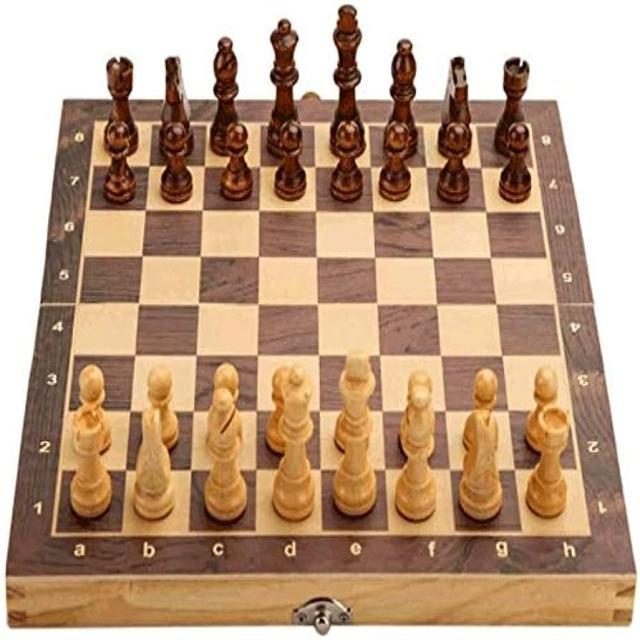chess-table-corners: (578, 516, 602, 547), (44, 521, 66, 544), (90, 112, 104, 134), (522, 118, 537, 134)
